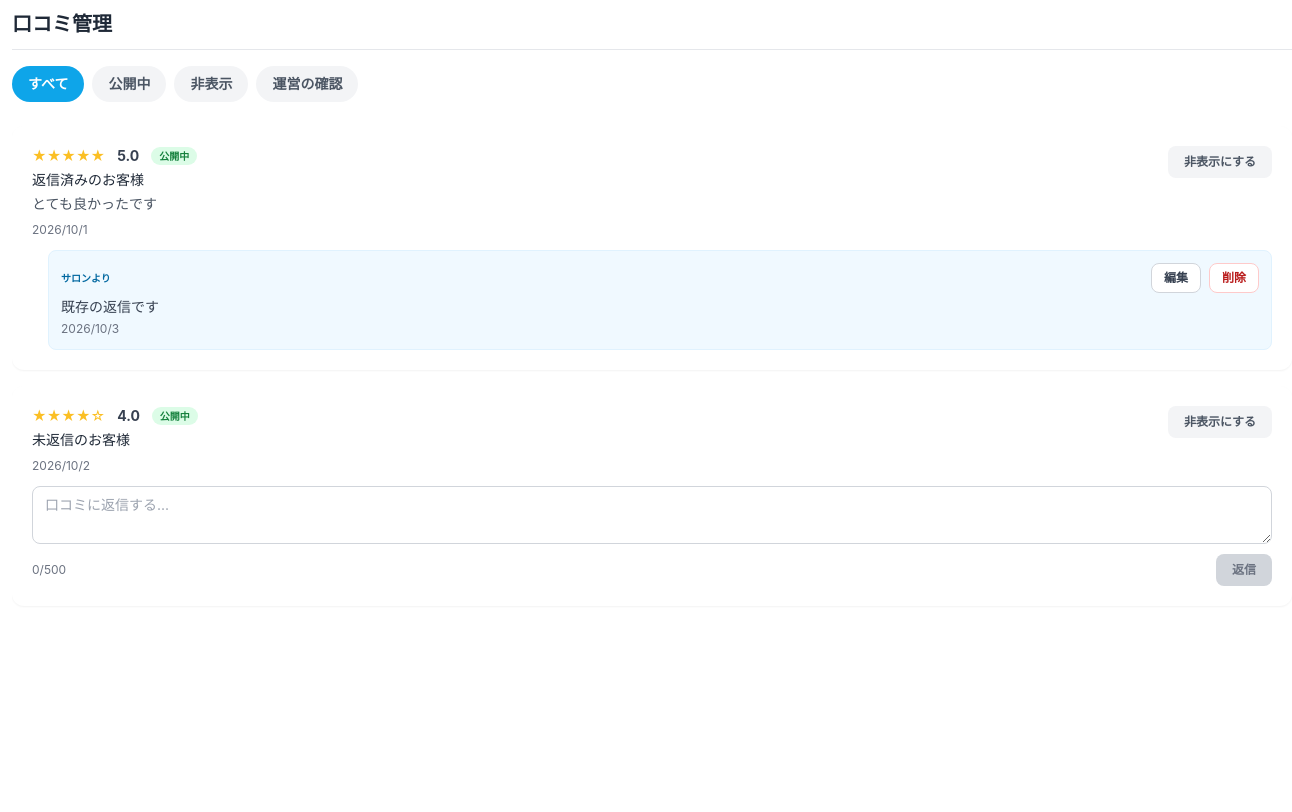
Test case: 編集 › その場で編集し、保存すると API へ送って表示を更新する（変更が無ければ保存できない）
The width and height of the screenshot is (1292, 812).
Step 1. Click the button "編集" → (1176, 278), box [1151,263,1201,293]
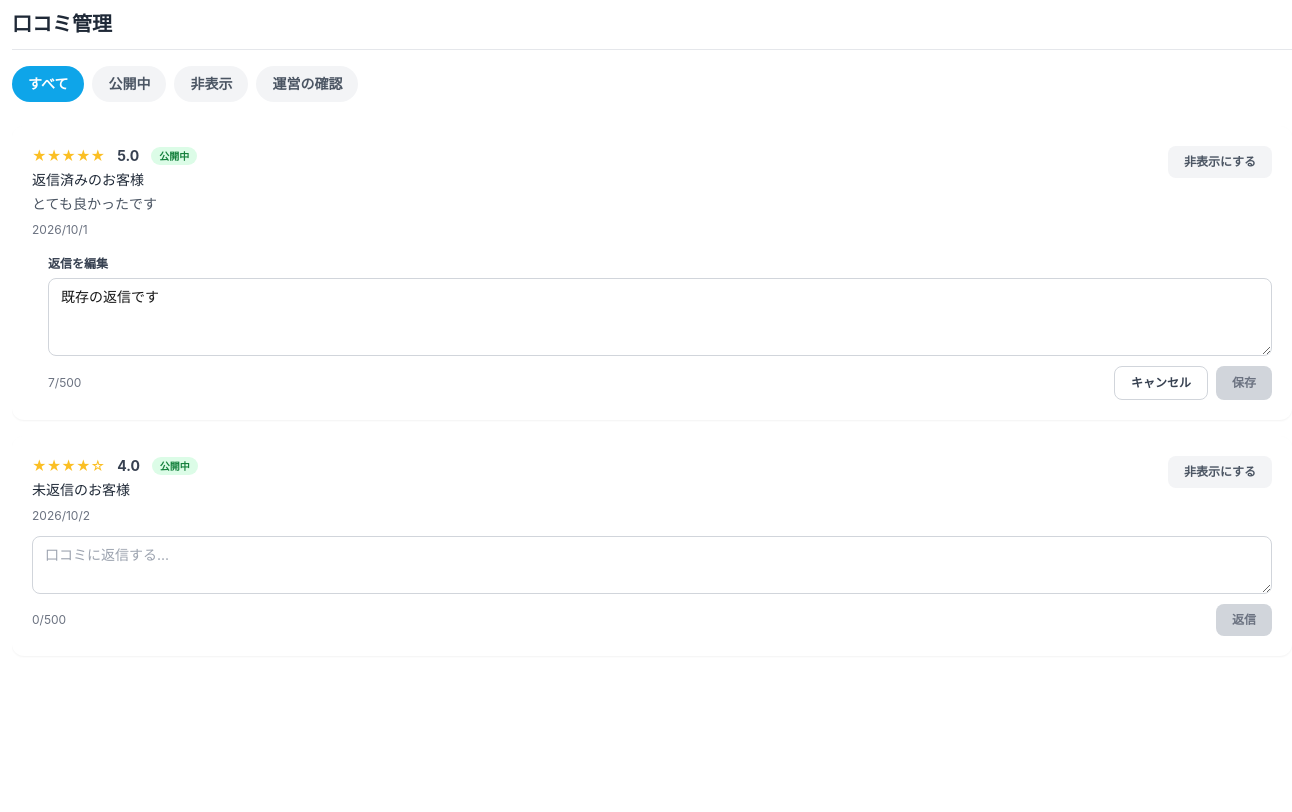
Step 2. Replace the text in the text box labelled "返信を編集" with " 修正した返信です " → (660, 317), box [48,278,1272,356]
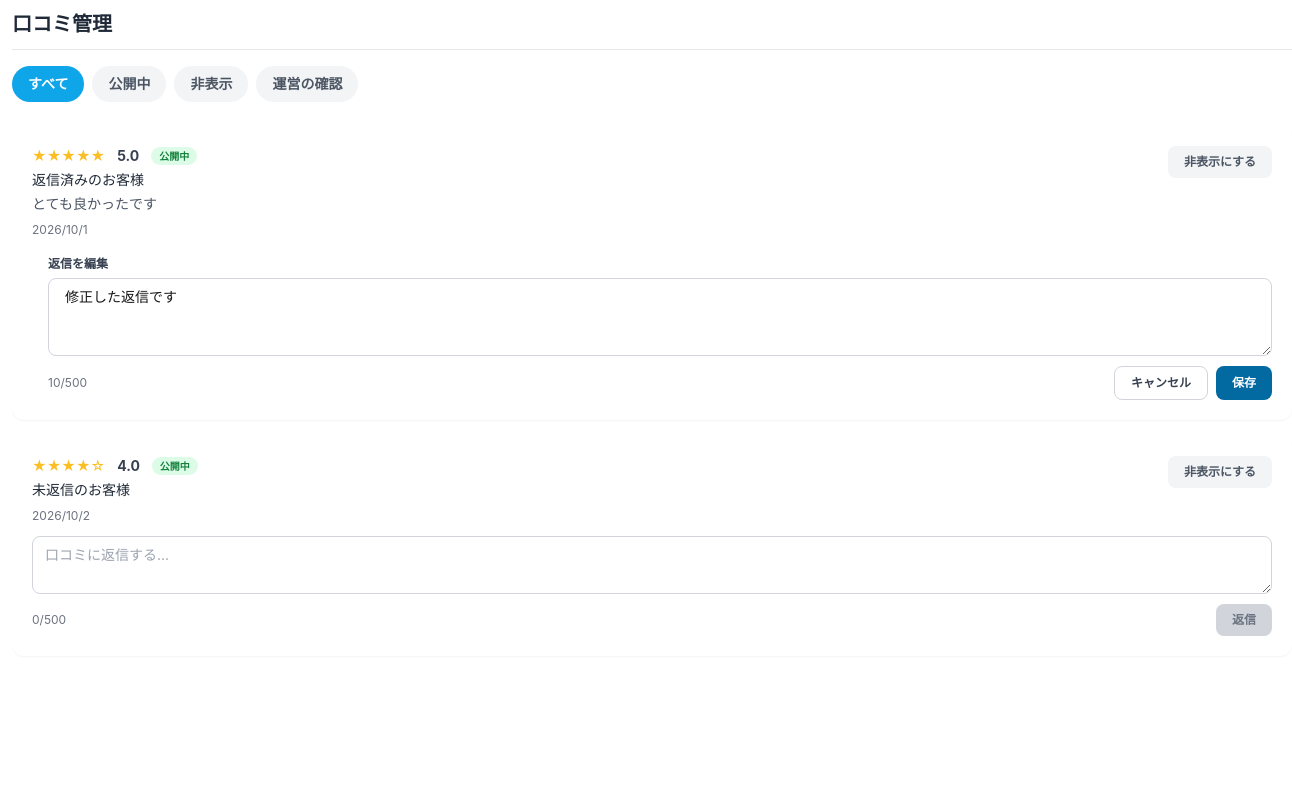
Step 3. Click the button "保存" → (1244, 383), box [1216,366,1272,400]
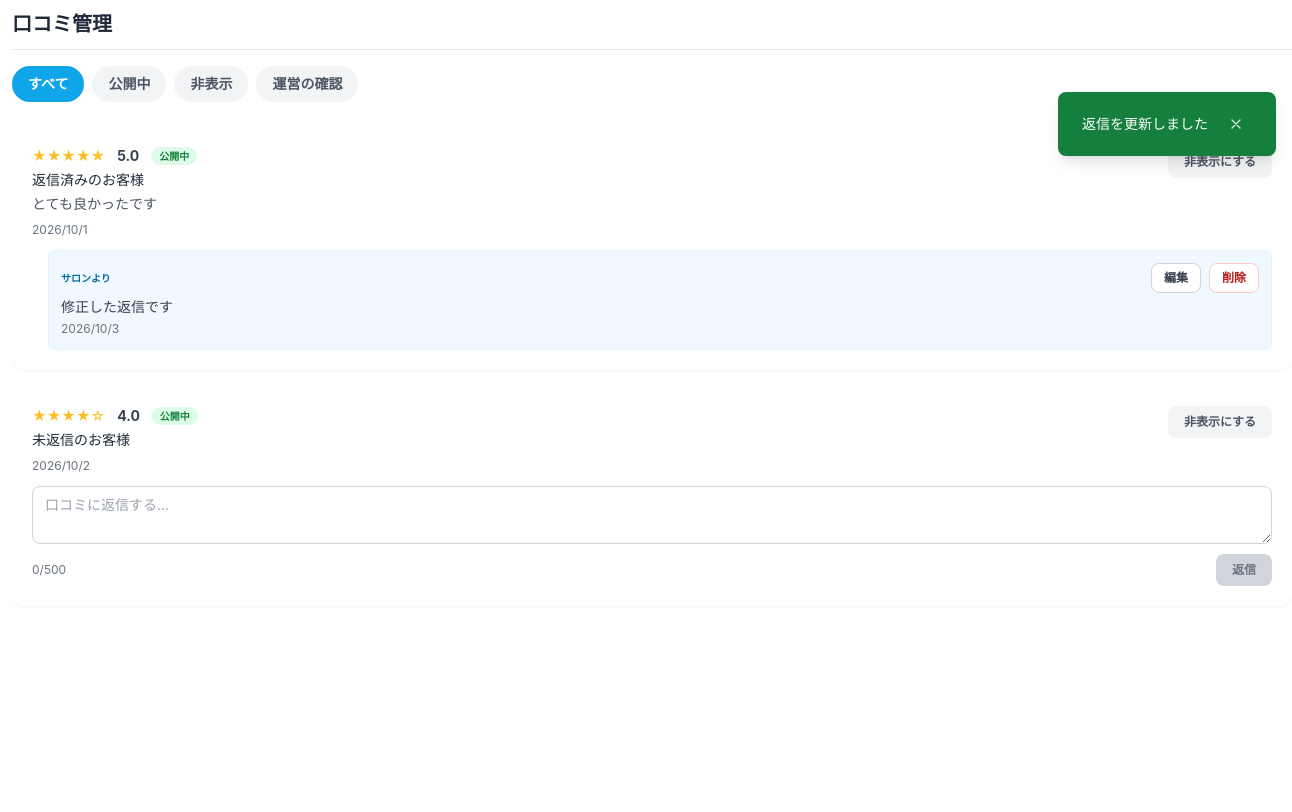
Result: the message reads "返信を更新しました" at [1082,115,1208,132]
